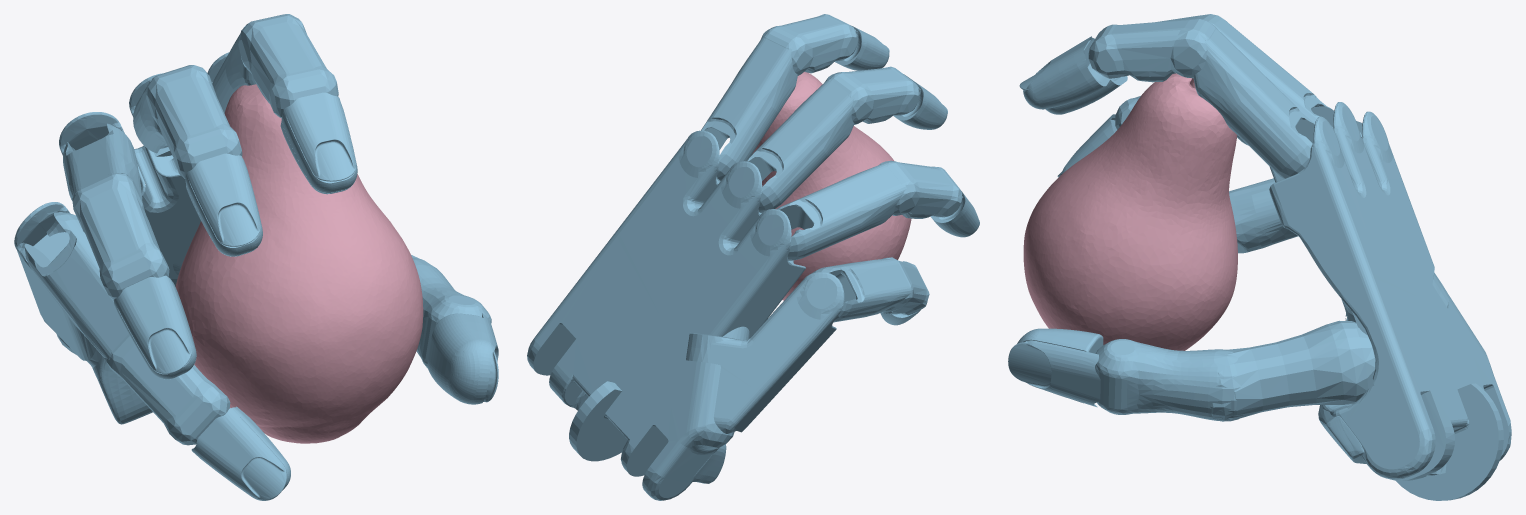
3 renders of one model, left to right at view 1: azimuth 30°, elevation 25°; view 2: azimuth 150°, elevation 25°; view 3: azimuth 270°, elevation 25°, orthographic. The views are drawn at different scales.
Parts seen in each view (by area): view 1: world, pear.stl; view 2: world, pear.stl; view 3: world, pear.stl.
Boxes of the visible parts, box(x1,y1,x2,y2) form: world: box(14, 14, 498, 500); pear.stl: box(175, 84, 423, 443); world: box(527, 14, 979, 500); pear.stl: box(752, 71, 911, 300); world: box(1008, 14, 1511, 500); pear.stl: box(1023, 73, 1237, 350).
Bounding box in the file's own units: 0.13 × 0.1504 × 0.1543.
